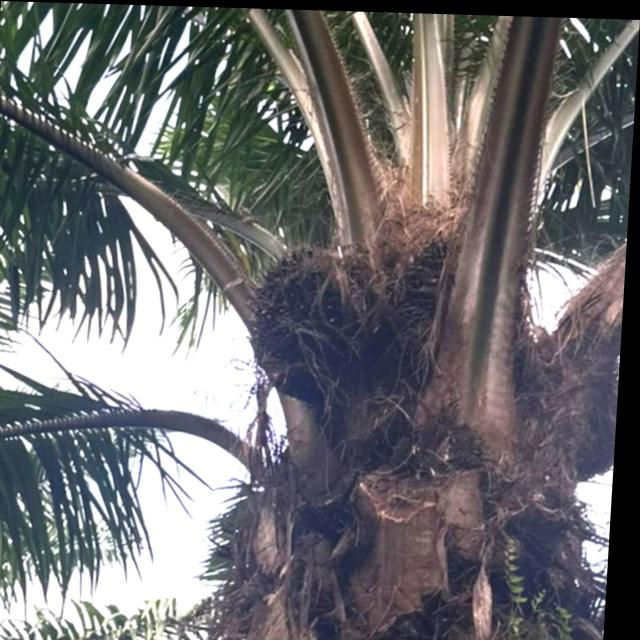unripe: (240, 237, 386, 393)
